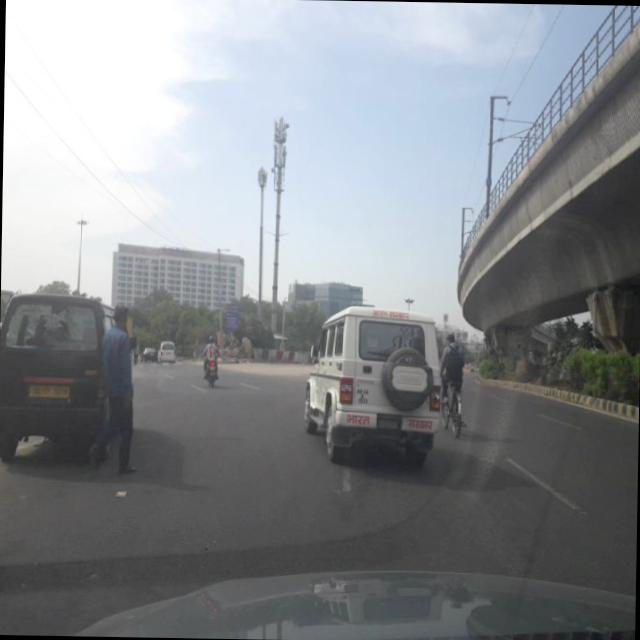crack: (284, 468, 554, 572)
